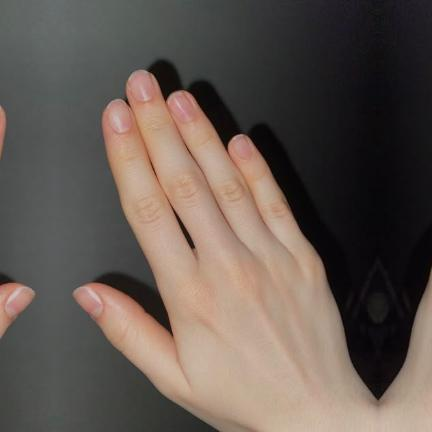Nail: (106, 99, 132, 133), (128, 70, 155, 102), (0, 105, 2, 121)
